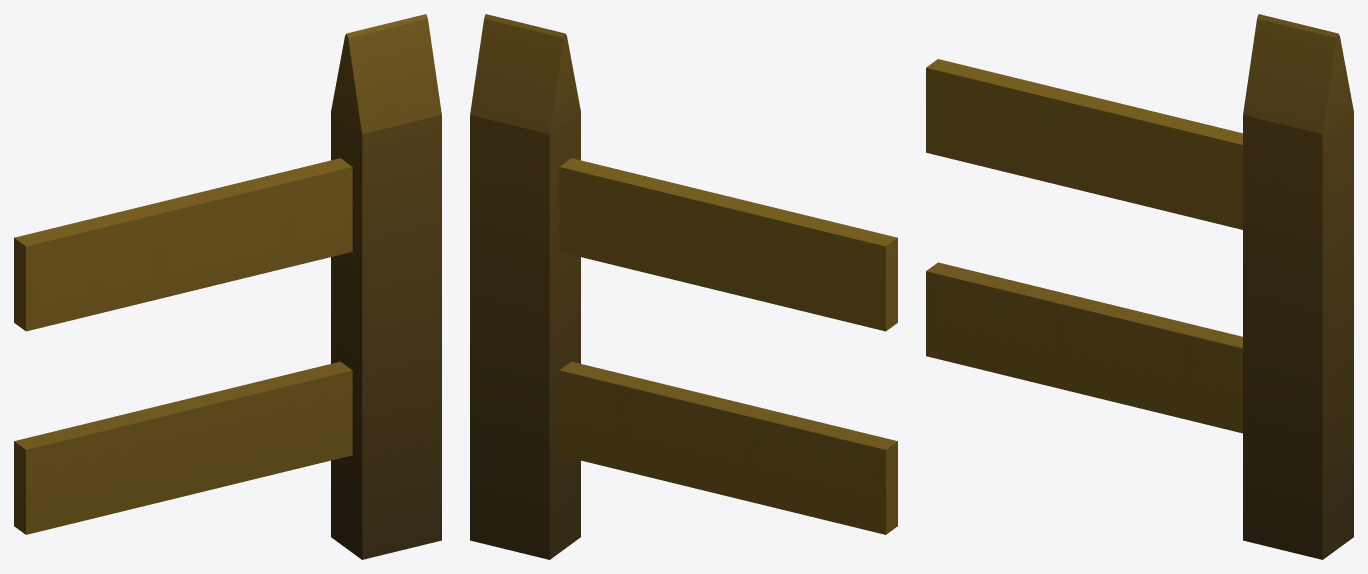
The model's file is SM_Fence2.fbx.
3 renders of one model, left to right at view 1: azimuth 30°, elevation 25°; view 2: azimuth 150°, elevation 25°; view 3: azimuth 330°, elevation 25°, orthographic.
Parts seen in each view (by area): view 1: SM_Fence2; view 2: SM_Fence2; view 3: SM_Fence2.
Part boxes in pixels (bbox=[...]): SM_Fence2: bbox=[14, 14, 441, 559]; SM_Fence2: bbox=[470, 14, 897, 559]; SM_Fence2: bbox=[926, 14, 1353, 559].
Bounding box in the file's own units: 194 × 235 × 25.77.
